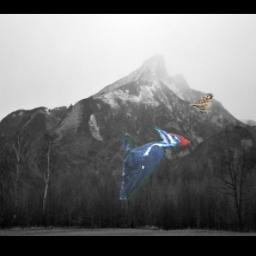Sparrow: (188, 93, 213, 114)
Woodpecker: (118, 121, 189, 201)
